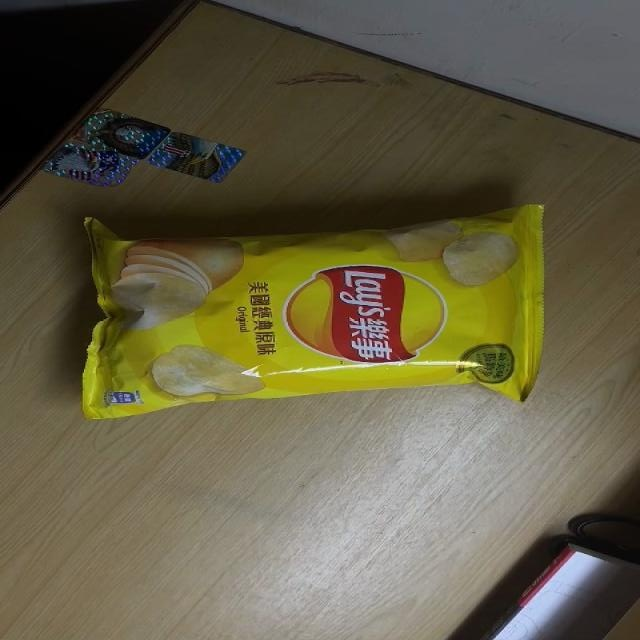Lay-s-original: (76, 202, 546, 422)
